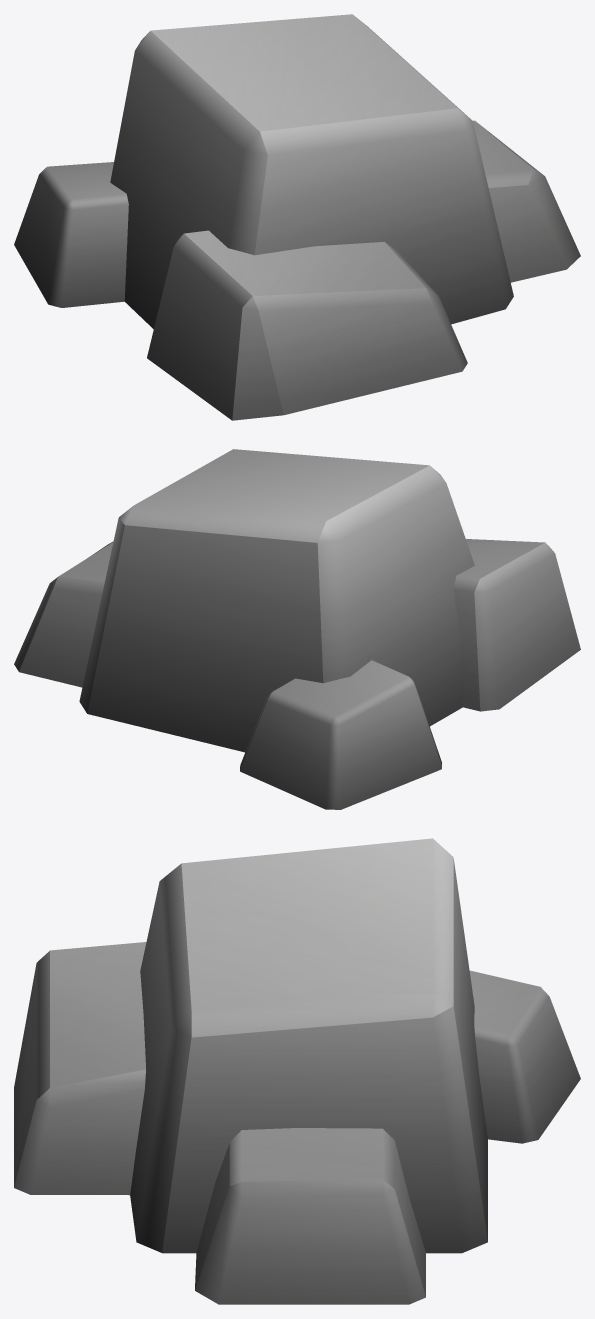
The model's file is Rock01.glb.
3 renders of one model, top to bottom at view 1: azimuth 30°, elevation 25°; view 2: azimuth 150°, elevation 25°; view 3: azimuth 270°, elevation 25°, orthographic. The views are drawn at different scales.
Visible parts, largest first — view 1: Rock01; view 2: Rock01; view 3: Rock01.
Part boxes in pixels (x1,y1,x2,y2): Rock01: [14, 14, 580, 420]; Rock01: [14, 449, 580, 809]; Rock01: [14, 838, 580, 1304].
Size of what is drawn, in the model's own units: 1.4 by 0.7129 by 1.32.
Materials: 1 (1 with a texture image).
